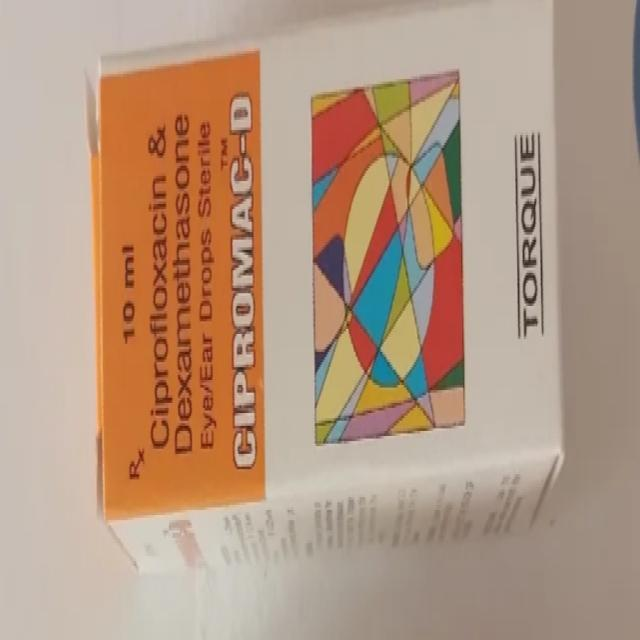drug-name: (229, 91, 257, 470)
